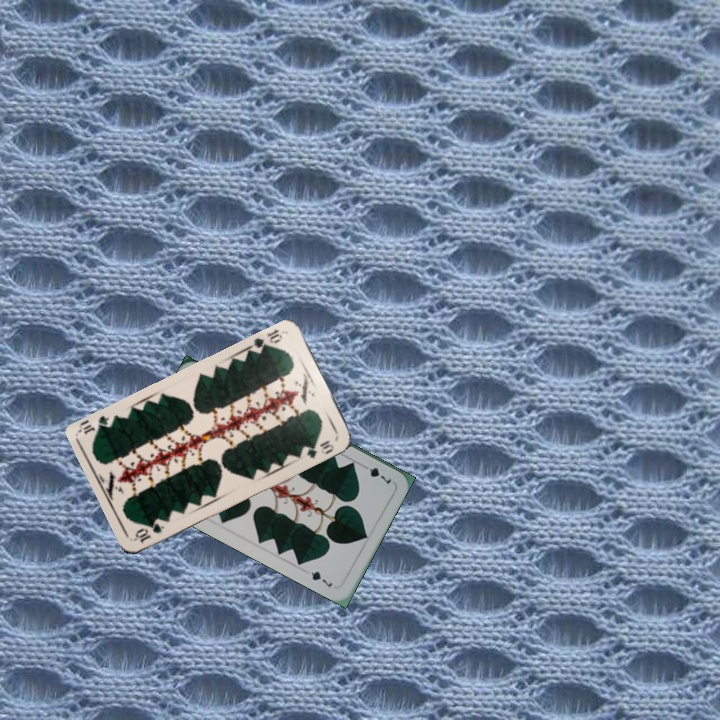G10: (247, 325, 285, 356), (131, 519, 167, 546)
G7: (357, 460, 394, 486)
